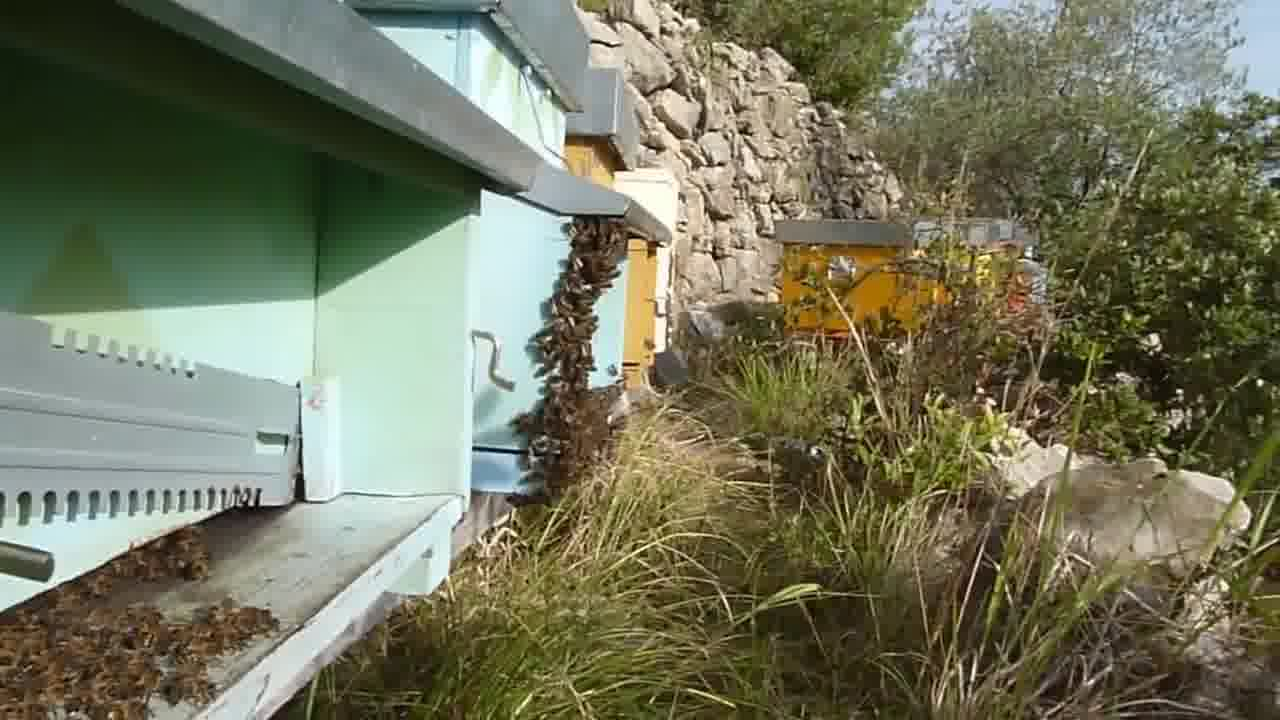bee: (108, 591, 288, 704), (2, 603, 110, 714), (522, 382, 600, 462), (112, 530, 217, 588), (536, 292, 601, 382), (554, 215, 626, 295)
